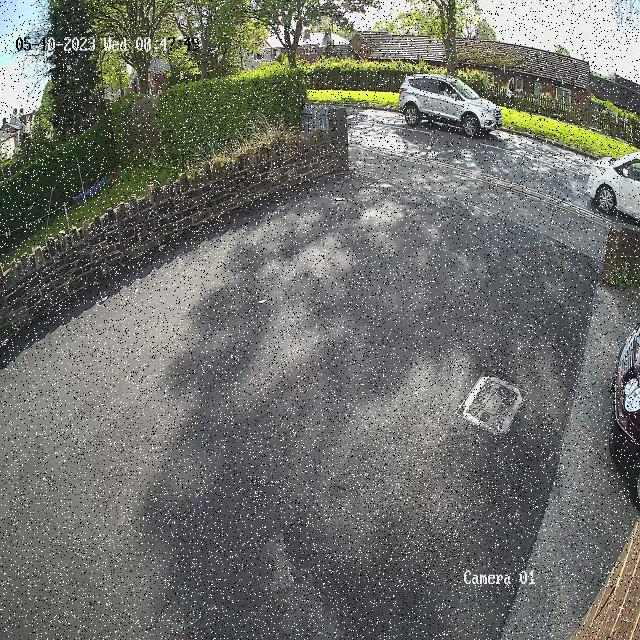vehicle: (396, 61, 508, 152), (586, 128, 640, 229)
